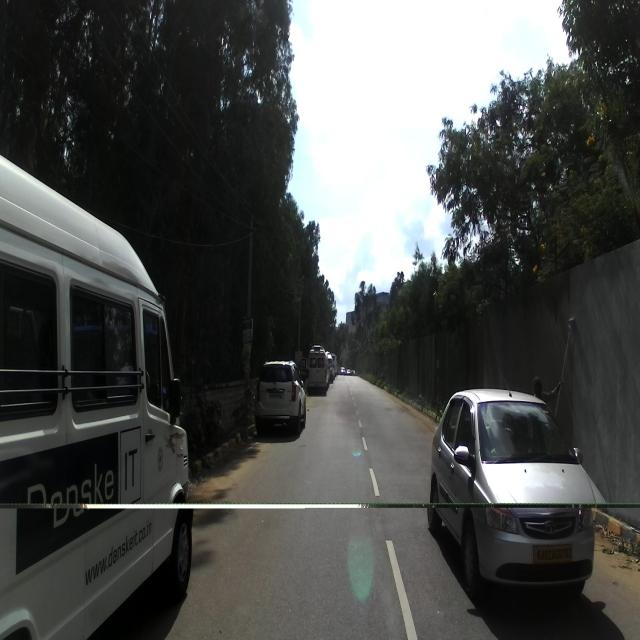Car_Mahindra: (253, 356, 309, 440)
Car_TATA: (427, 379, 604, 599)
mini-bus: (0, 154, 194, 636)
